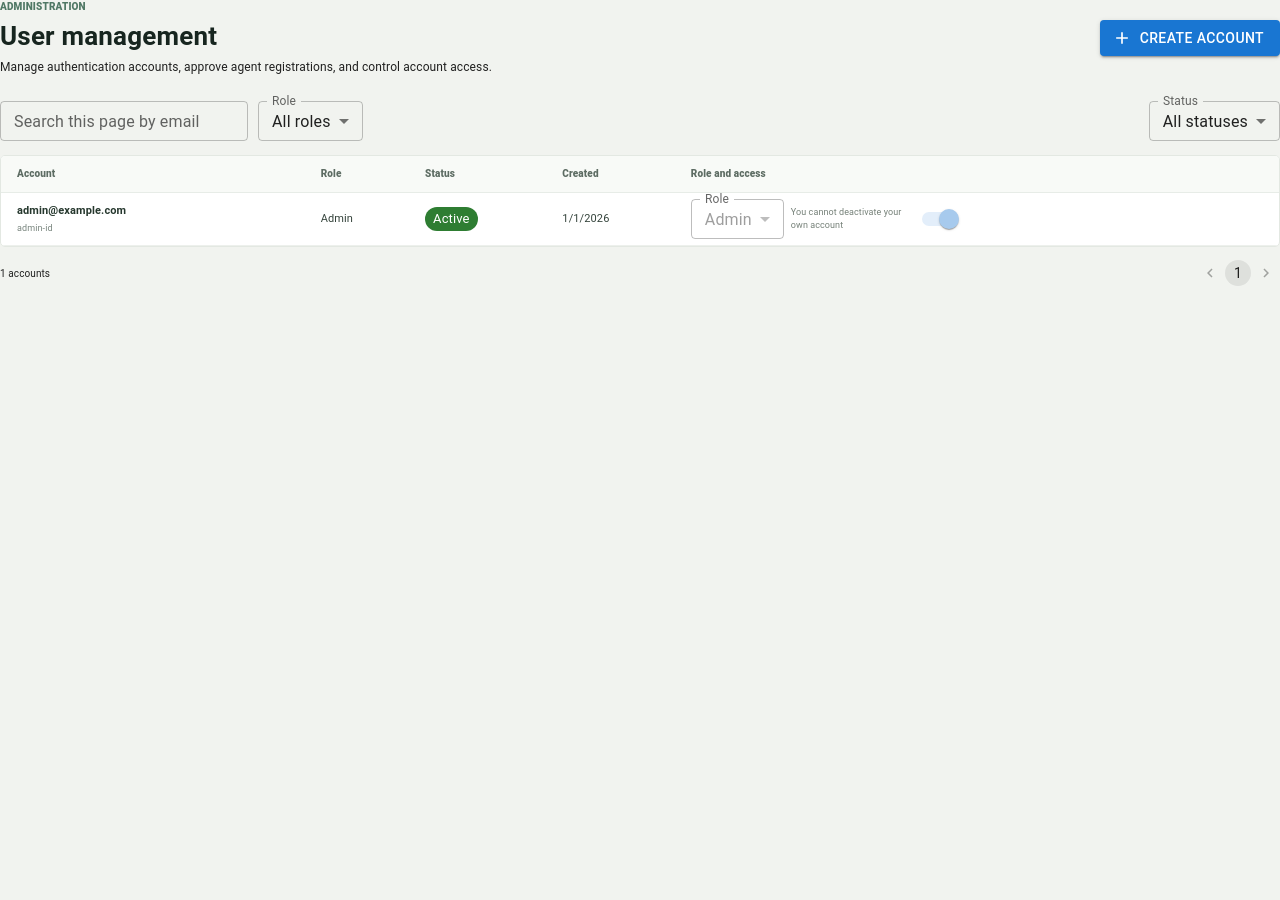
Test: admin user management › reports a created account whose password email failed
The width and height of the screenshot is (1280, 900).
Click the button "Create account". click: (1190, 38)
box: left=1100, top=20, right=1279, bottom=56
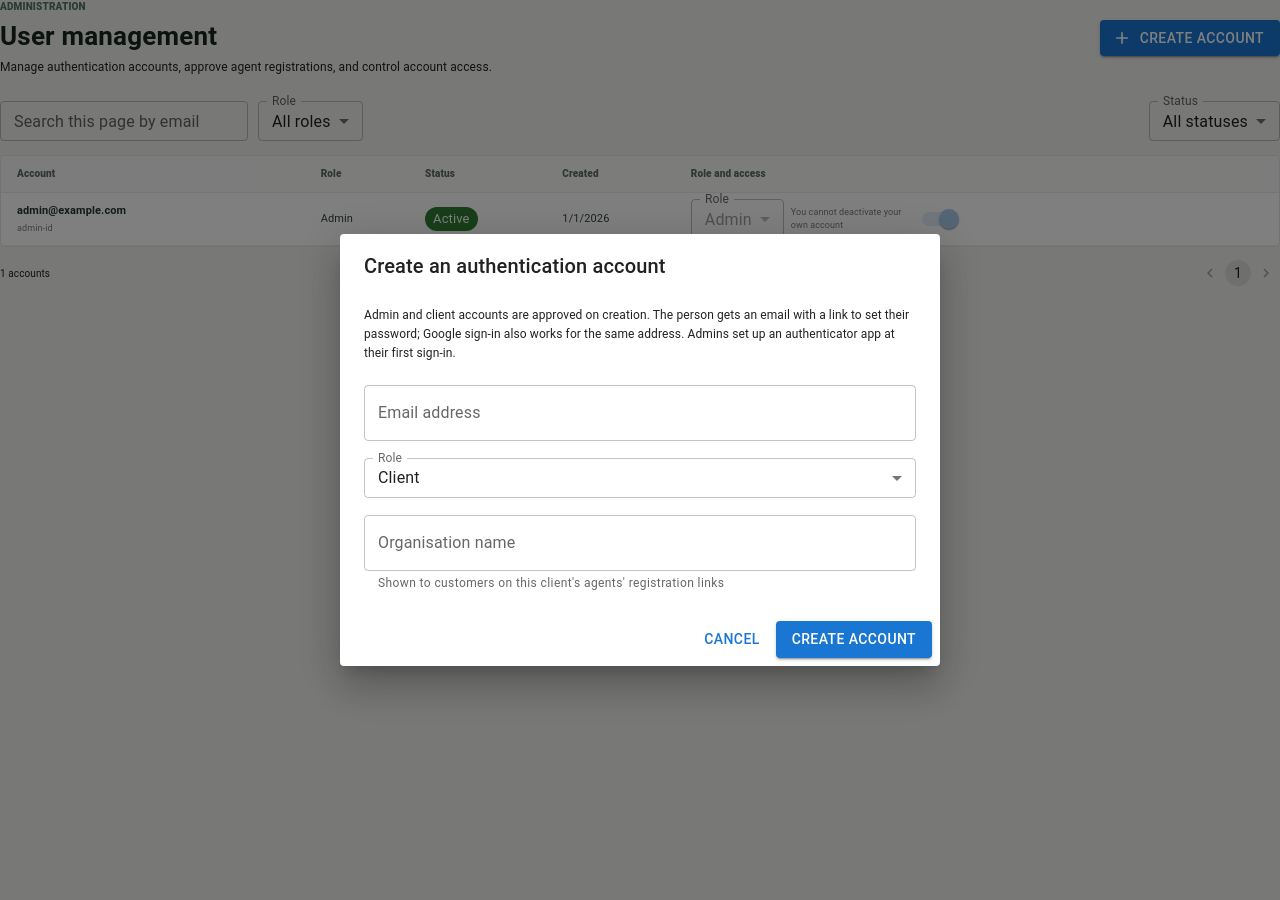
Type "client@example.com" into the field labelled "Email address". click: (640, 413)
box: left=364, top=385, right=916, bottom=441
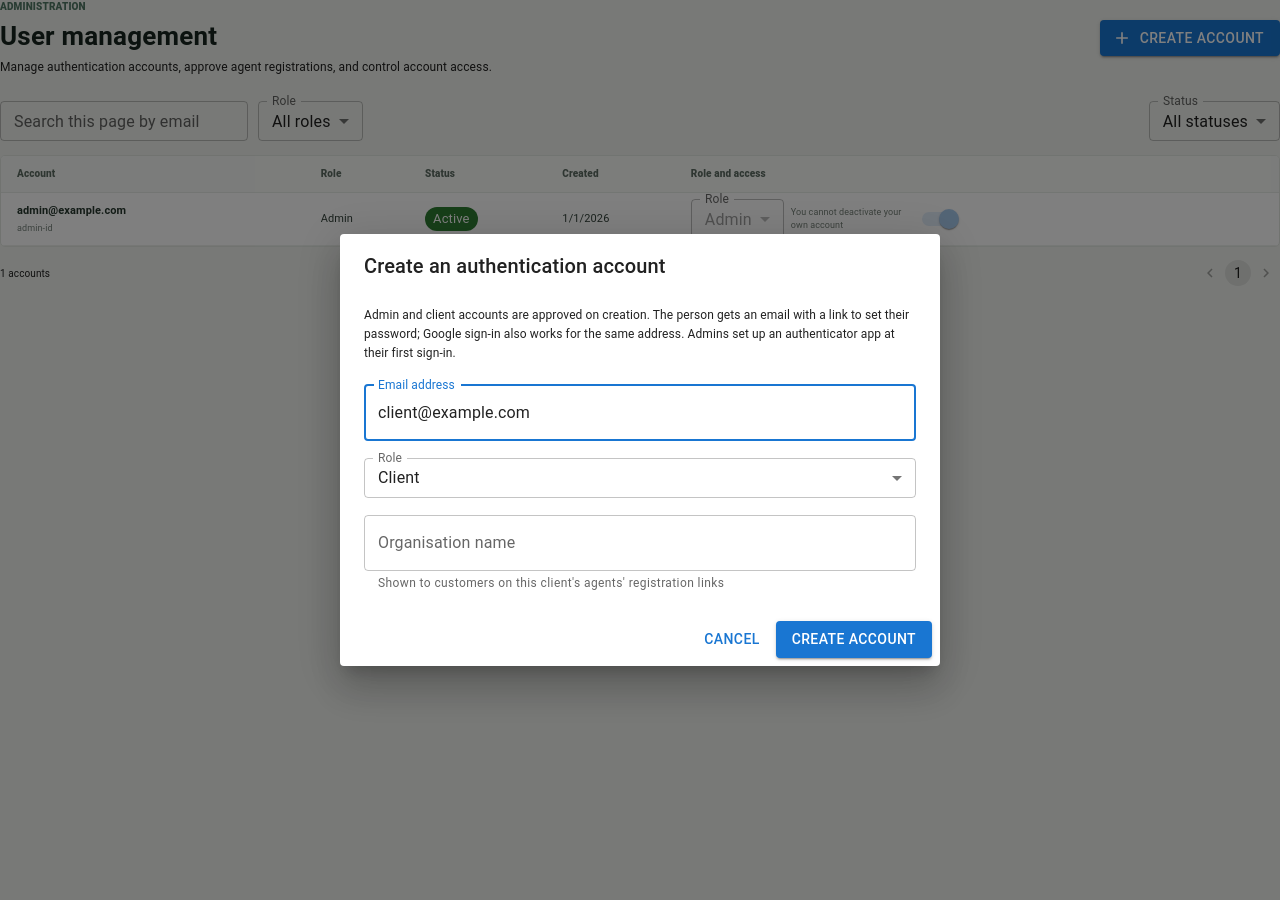
Type "Acme Bank" into the field labelled "Organisation name". click: (640, 543)
box: left=364, top=515, right=916, bottom=571
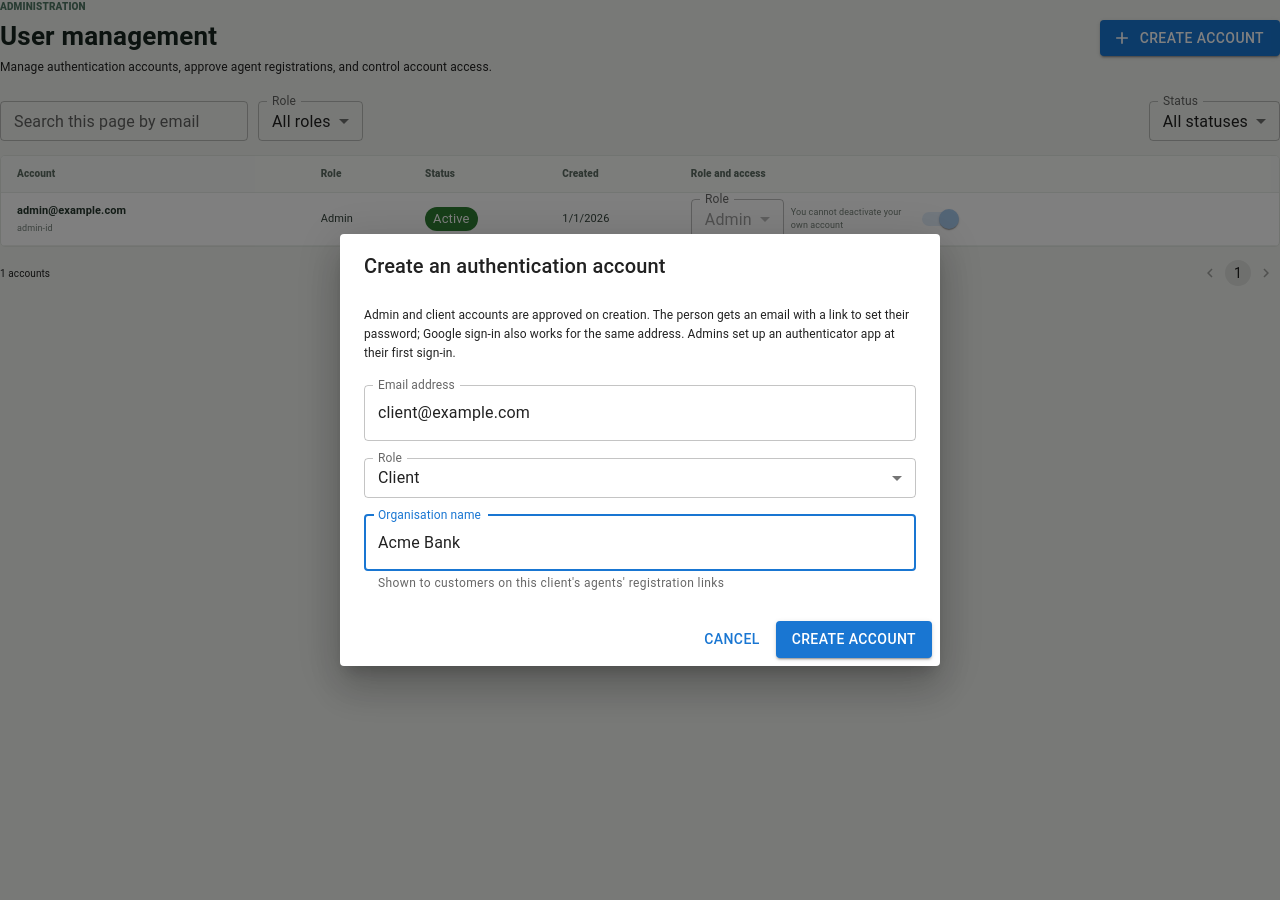
Click the button "Create account". click: (854, 640)
box: left=776, top=622, right=932, bottom=658
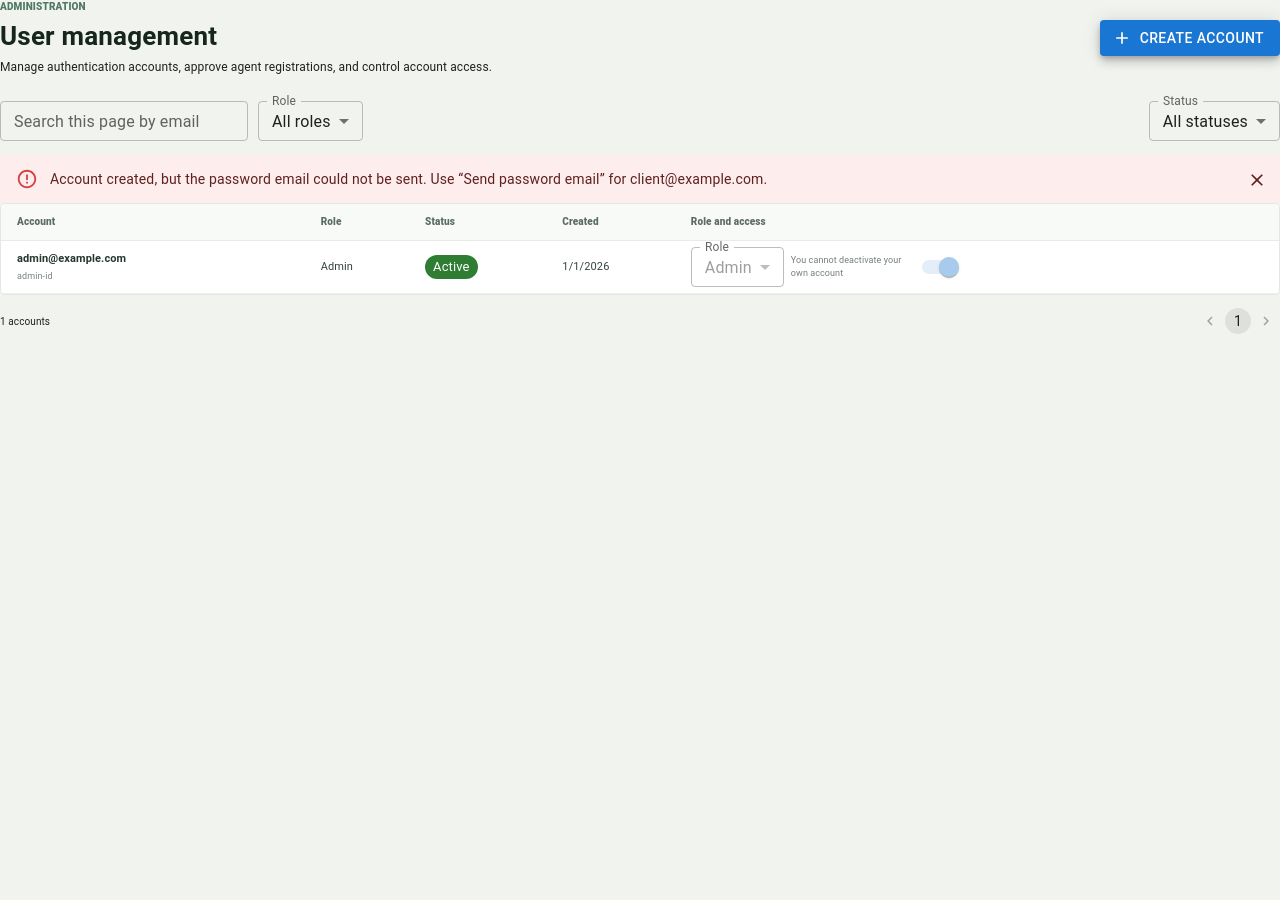
Now the text "password email could not be sent" is shown, box left=50, top=171, right=767, bottom=187
